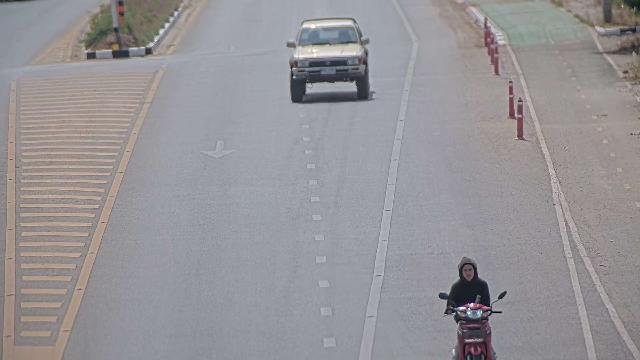motorcycle: (437, 253, 508, 360)
pickup-truck: (286, 16, 371, 102)
